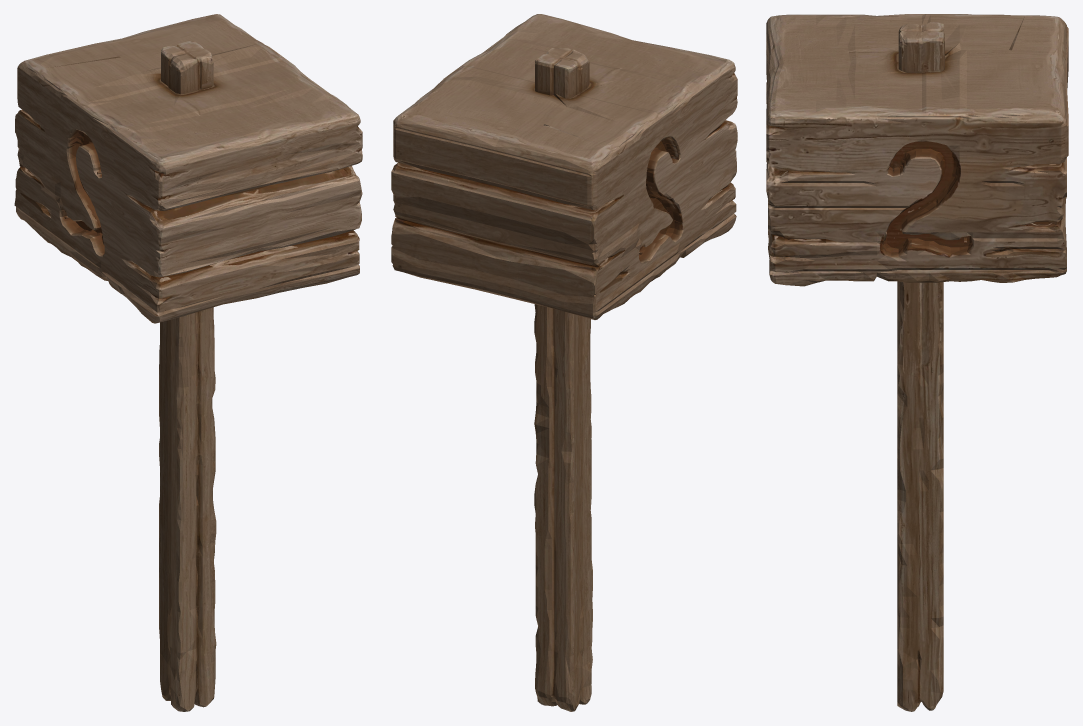
File: Letrero 2.glb
3 views of the same model, side by side, from view 1: azimuth 30°, elevation 25°; view 2: azimuth 150°, elevation 25°; view 3: azimuth 270°, elevation 25° (orthographic). The views are drawn at different scales.
Parts seen in each view (by area): view 1: tripo_node_08863cbc-dc1c-4fe2-b937-2a7aa42e4188; view 2: tripo_node_08863cbc-dc1c-4fe2-b937-2a7aa42e4188; view 3: tripo_node_08863cbc-dc1c-4fe2-b937-2a7aa42e4188.
Part boxes in pixels (<box>): tripo_node_08863cbc-dc1c-4fe2-b937-2a7aa42e4188: <box>14,14,362,711</box>; tripo_node_08863cbc-dc1c-4fe2-b937-2a7aa42e4188: <box>391,14,737,711</box>; tripo_node_08863cbc-dc1c-4fe2-b937-2a7aa42e4188: <box>766,14,1068,711</box>.
Size of the model in its own units: 0.3307 by 1 by 0.407.
1 material, 1 textured.
